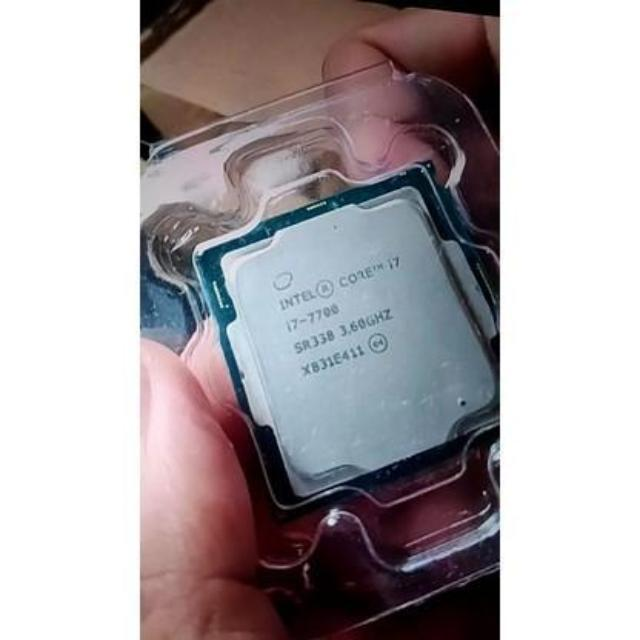CPU: (200, 182, 512, 506)
